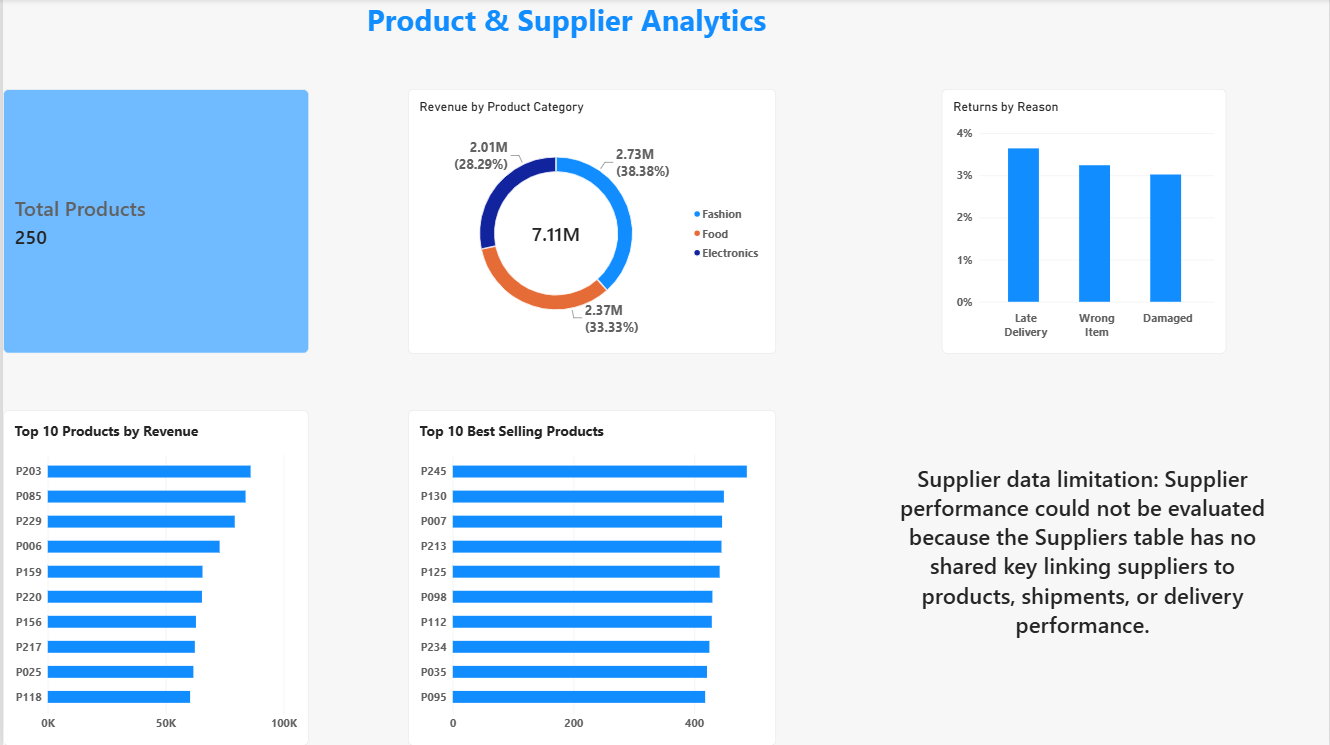

The dashboard page shown, as its layout file describes it:
{"tool":"powerbi","page":{"name":"Product & Supplier Analytics","canvas":[1920,1080],"ordinal":5},"visuals":[{"type":"cardVisual","fields":{"Data":["SwiftLog_Products.Total Products"]},"box":[0,130.3,443.1,383.6],"z":0},{"type":"textbox","box":[526.9,0,1276.2,63.8],"z":1},{"type":"clusteredBarChart","title":"Top 10 Products by Revenue","fields":{"Category":["SwiftLog_Products.ProductID"],"Y":["SwiftLog_Order_Items.Total Revenue"]},"box":[0,594.9,442.5,485.8],"z":2},{"type":"clusteredBarChart","title":"Top 10 Best Selling Products","fields":{"Category":["SwiftLog_Products.ProductID"],"Y":["SwiftLog_Inventory.Units Ordered"]},"box":[586.6,594.9,533.1,485.8],"z":3},{"type":"donutChart","title":"Revenue by Product Category","fields":{"Category":["SwiftLog_Products.Category"],"Y":["SwiftLog_Order_Items.Total Revenue"]},"box":[586.6,129.7,533.1,382.8],"z":4},{"type":"clusteredColumnChart","title":"Returns by Reason","fields":{"Category":["SwiftLog_Returns.Reason"],"Y":["SwiftLog_Returns.Return Rate"]},"box":[1358.5,129.7,411.7,382.8],"z":5},{"type":"textbox","box":[1292.6,671,541.3,387],"z":6}]}

Visuals, with their boxes in screenshot pixels (x1, y1, x2, y2), scaled from the page's 1920x1080 canvas onto the 1330x745 screenshot:
cardVisual - SwiftLog_Products.Total Products: rect(0, 90, 307, 354)
textbox: rect(365, 0, 1249, 44)
"Top 10 Products by Revenue" clusteredBarChart: rect(0, 410, 307, 744)
"Top 10 Best Selling Products" clusteredBarChart: rect(406, 410, 776, 744)
"Revenue by Product Category" donutChart: rect(406, 89, 776, 354)
"Returns by Reason" clusteredColumnChart: rect(941, 89, 1226, 354)
textbox: rect(895, 463, 1270, 730)
